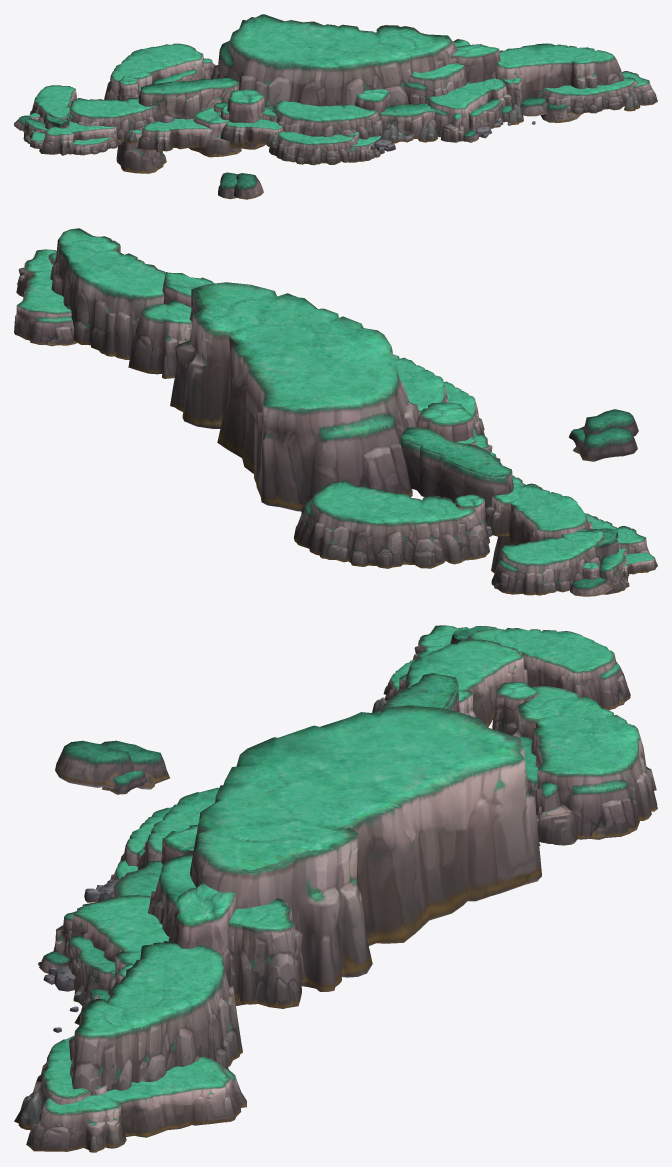
File: yanshi2.fbx
3 renders of one model, top to bottom at view 1: azimuth 30°, elevation 25°; view 2: azimuth 150°, elevation 25°; view 3: azimuth 270°, elevation 25°, orthographic. The views are drawn at different scales.
Parts seen in each view (by area): view 1: yanshi2; view 2: yanshi2; view 3: yanshi2.
Boxes of the visible parts, <box> form: yanshi2: <box>14,14,657,199</box>; yanshi2: <box>14,228,657,596</box>; yanshi2: <box>14,625,657,1152</box>.
Size of the model in its own units: 15824 by 2711 by 8488.
